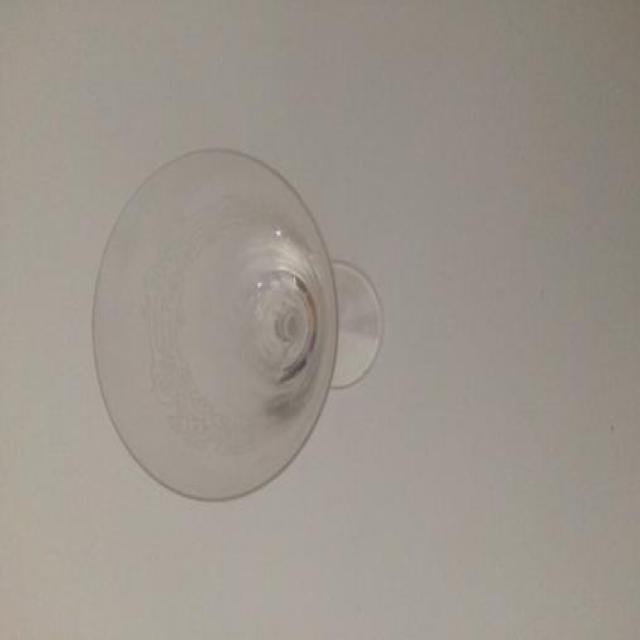glass: (90, 147, 380, 502)
